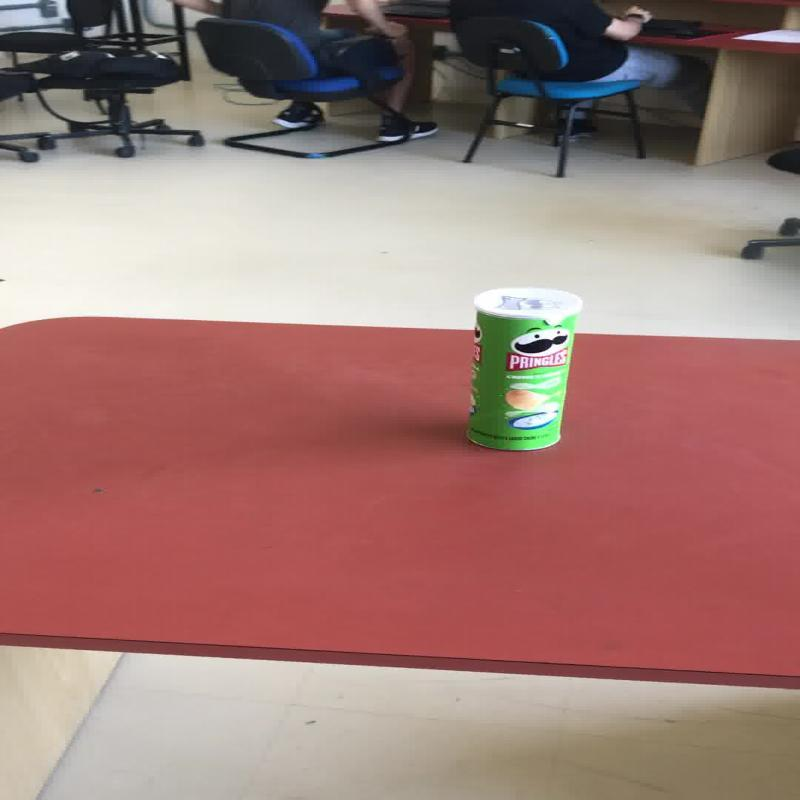pringles: (464, 286, 582, 451)
